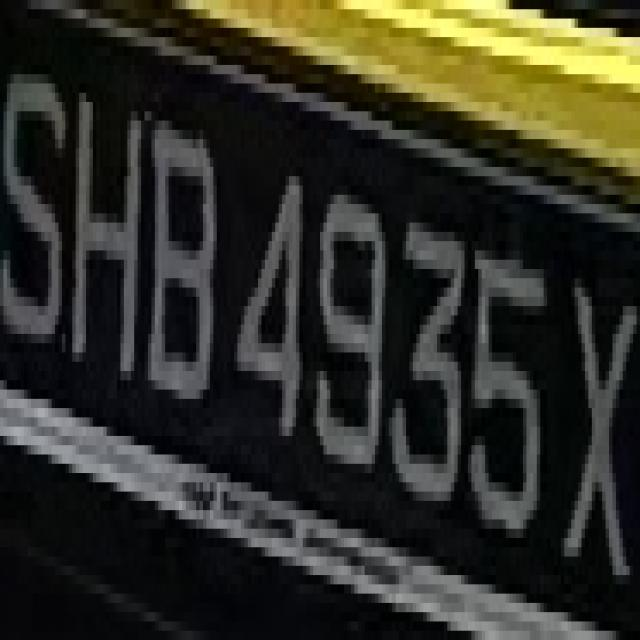3: (399, 176, 475, 566)
4: (227, 130, 317, 464)
5: (468, 213, 554, 566)
9: (310, 167, 392, 510)
B: (144, 93, 223, 436)
H: (69, 56, 151, 436)
S: (0, 9, 65, 389)
X: (554, 232, 637, 603)
